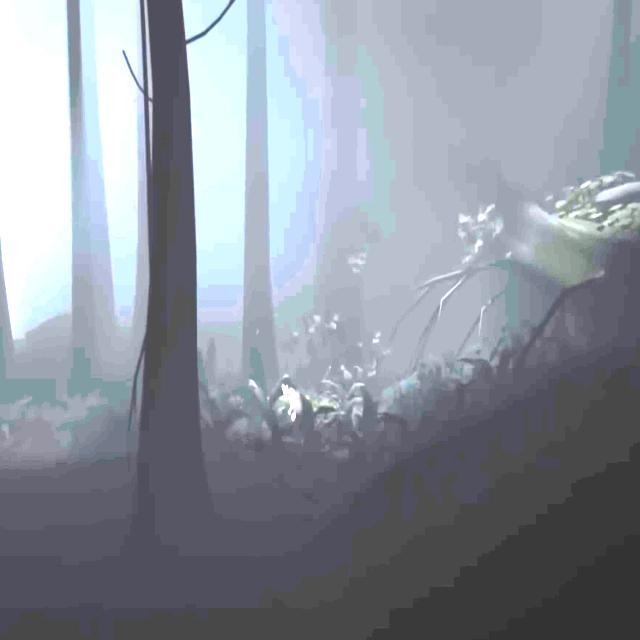boy: (282, 374, 302, 422)
